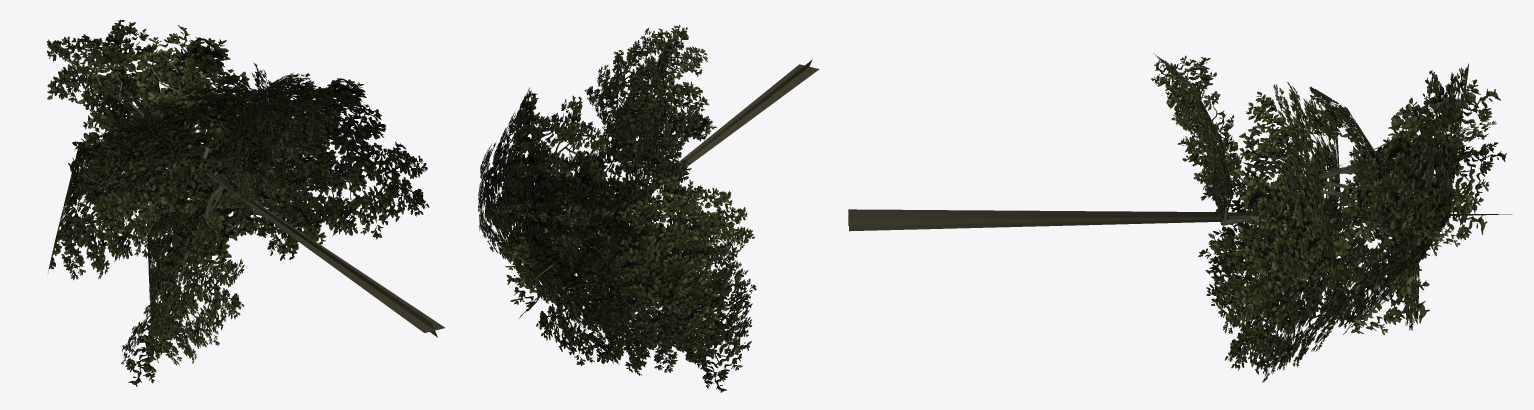
File: MEP_Tree_02_e_LOD_01.fbx
3 views of the same model, side by side, from view 1: azimuth 30°, elevation 25°; view 2: azimuth 150°, elevation 25°; view 3: azimuth 270°, elevation 25° (orthographic). The views are drawn at different scales.
Visible parts, largest first — view 1: MEP_Leafs_02_e_LOD_01; view 2: MEP_Leafs_02_e_LOD_01; view 3: MEP_Leafs_02_e_LOD_01.
Part boxes in pixels (<box>): MEP_Leafs_02_e_LOD_01: <box>47,19,444,386</box>; MEP_Leafs_02_e_LOD_01: <box>478,24,819,392</box>; MEP_Leafs_02_e_LOD_01: <box>848,53,1512,382</box>.
Size of the model in its own units: 20.52 by 20.93 by 34.43.
